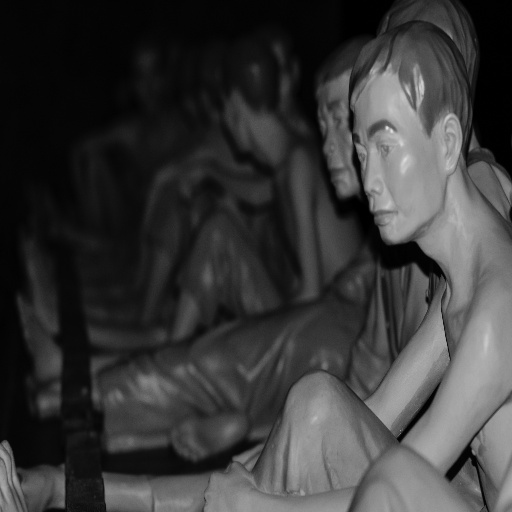hand: (200, 457, 254, 511), (176, 158, 213, 198), (232, 443, 266, 473)
